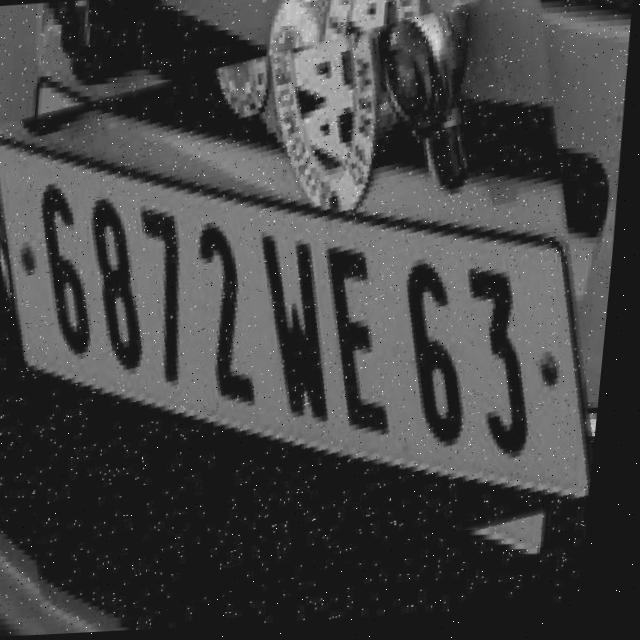LicensePlate: (0, 9, 626, 623)
